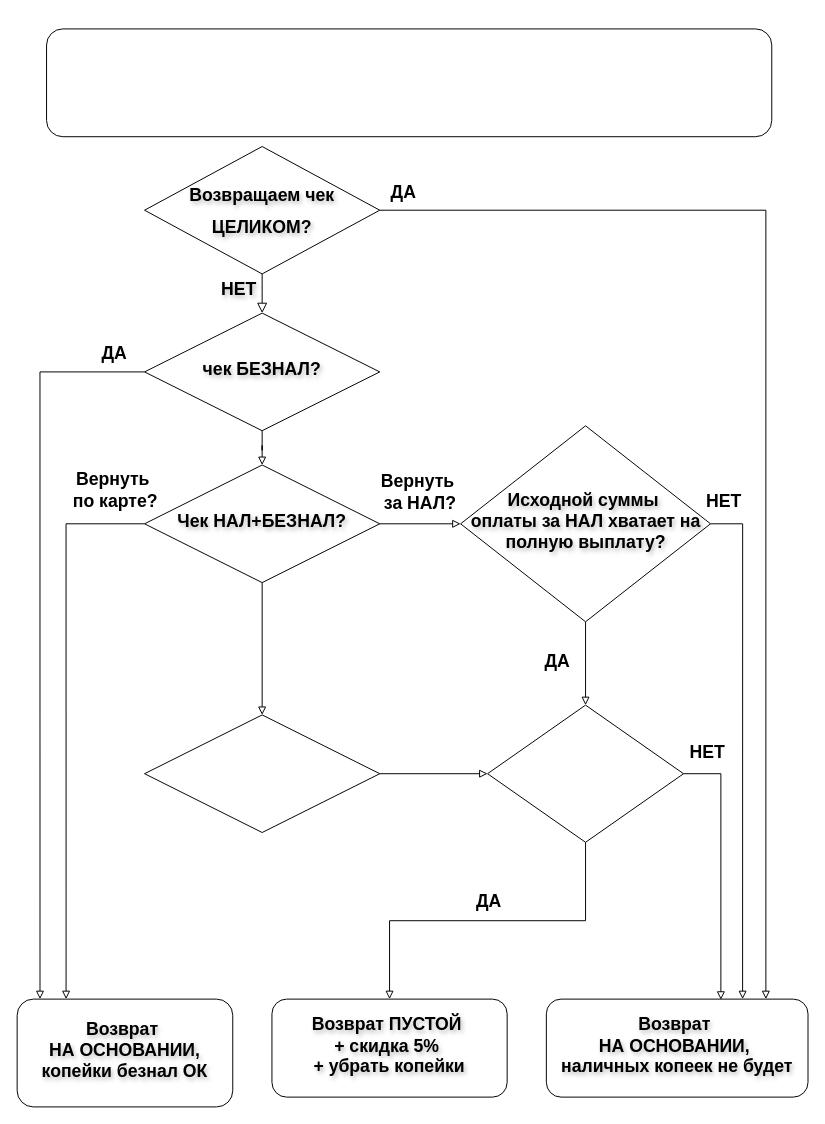
This 825x1124 diagram has some shape labels left out. Here are the shapes that lost their labels. From the top down, the box of each, then its label:
(46, 28, 772, 137): Возврат товара без копеек за наличные на кассе Фронтол
(144, 714, 380, 833): Чек НАЛ, возврат частичный
(487, 704, 684, 842): Товар в строке с копейками?
